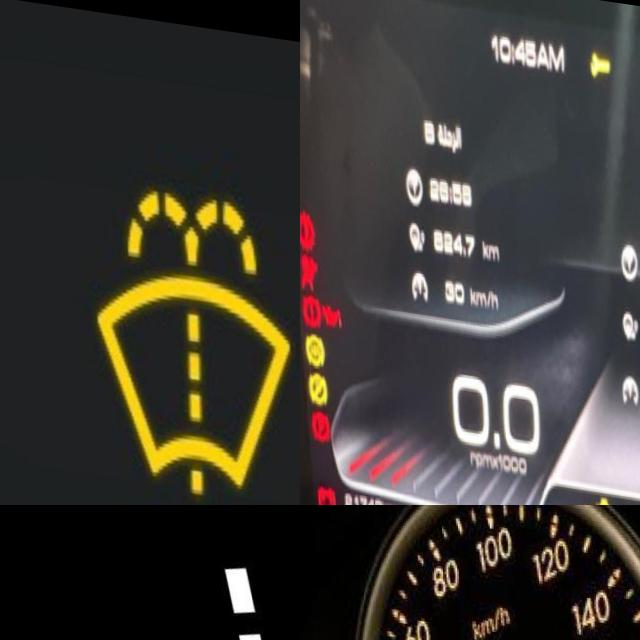High Engine Coolant Temperature: (572, 484, 592, 505)
